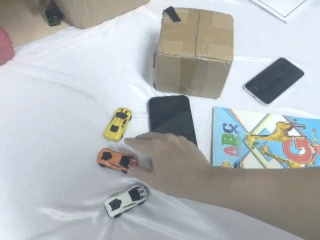book: (203, 103, 320, 171)
box: (152, 6, 236, 100), (39, 1, 155, 31)
phone: (243, 56, 305, 106), (146, 94, 196, 147)
toy_car: (103, 182, 150, 218), (97, 147, 139, 174), (103, 107, 132, 142)
